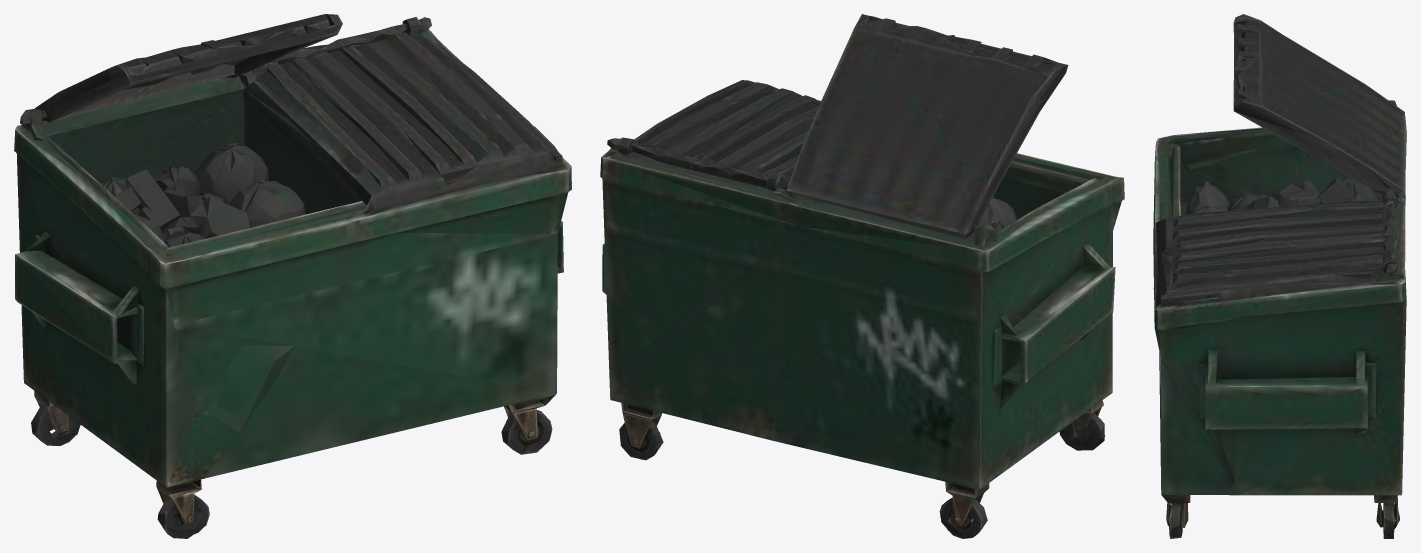
Rendered from dumpster.glb.
The picture shows the model from 3 angles, left to right: view 1: azimuth 30°, elevation 25°; view 2: azimuth 150°, elevation 25°; view 3: azimuth 270°, elevation 25°; orthographic projection. The views are drawn at different scales.
Size of the model in its own units: 1.9 by 1.78 by 1.09.
1 material, 1 textured.
